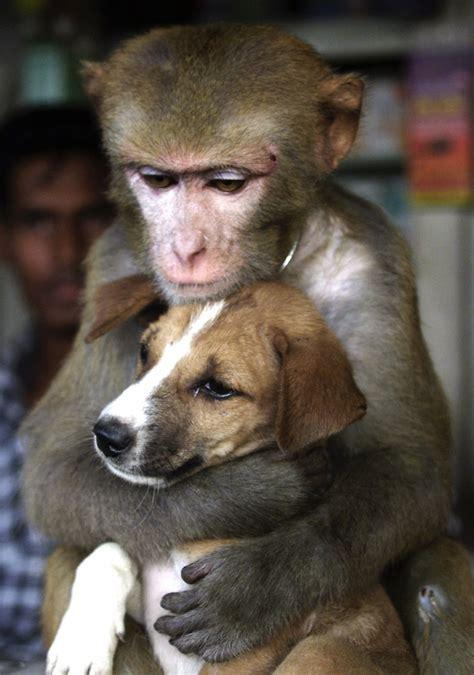dog: (46, 282, 411, 675)
monkey: (23, 23, 474, 674)
